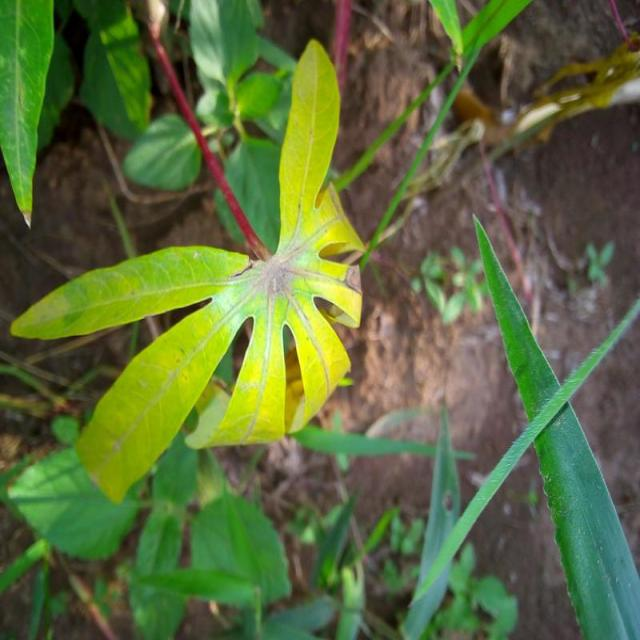cassava leaf: (10, 36, 368, 505), (473, 211, 640, 638)
